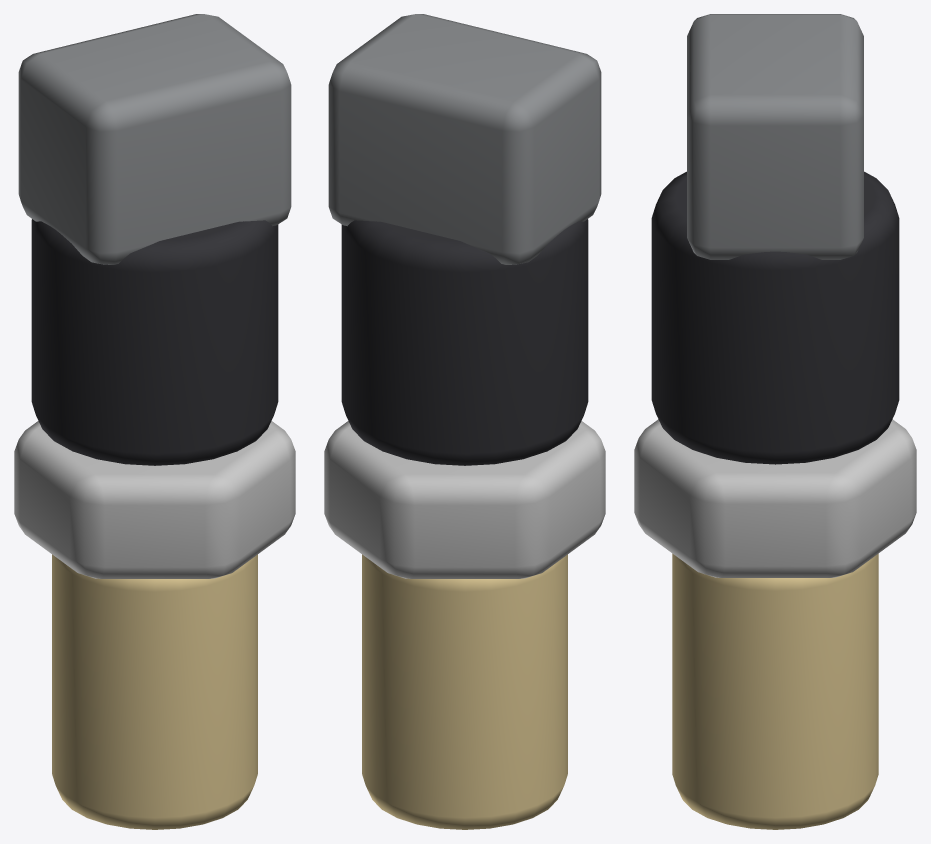
Rendered from FuelPressureSensor.fbx.
3 renders of one model, left to right at view 1: azimuth 30°, elevation 25°; view 2: azimuth 150°, elevation 25°; view 3: azimuth 270°, elevation 25°, orthographic.
Parts seen in each view (by area): view 1: FuelPressureSensor_LOD0; view 2: FuelPressureSensor_LOD0; view 3: FuelPressureSensor_LOD0.
Boxes of the visible parts, x1,y1,x2,y2 form: FuelPressureSensor_LOD0: (14, 14, 295, 829); FuelPressureSensor_LOD0: (324, 14, 605, 829); FuelPressureSensor_LOD0: (634, 14, 916, 829).
Size of what is drawn, in the model's own units: 0.0217 by 0.0693 by 0.024.
